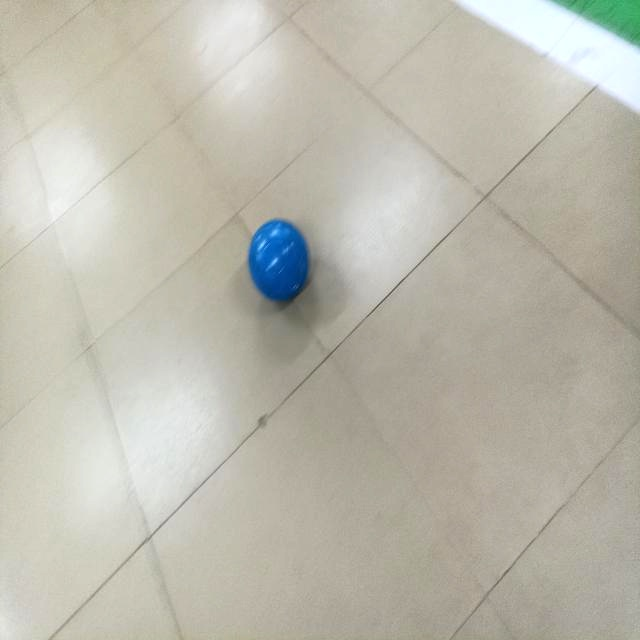blue_ball: (247, 214, 315, 310)
